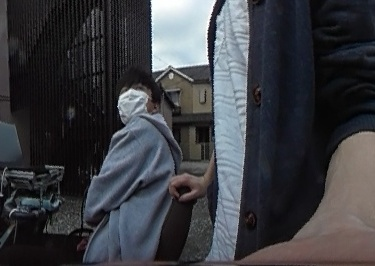person: (85, 66, 181, 266)
